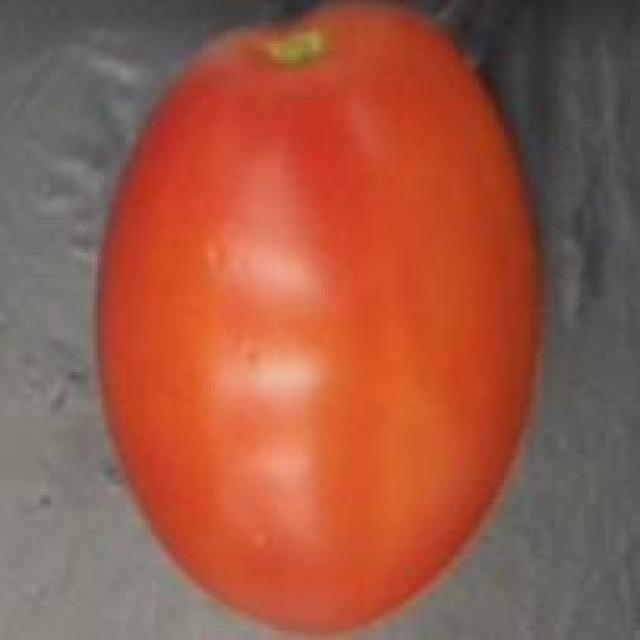ripe tomato: (85, 3, 555, 640)
